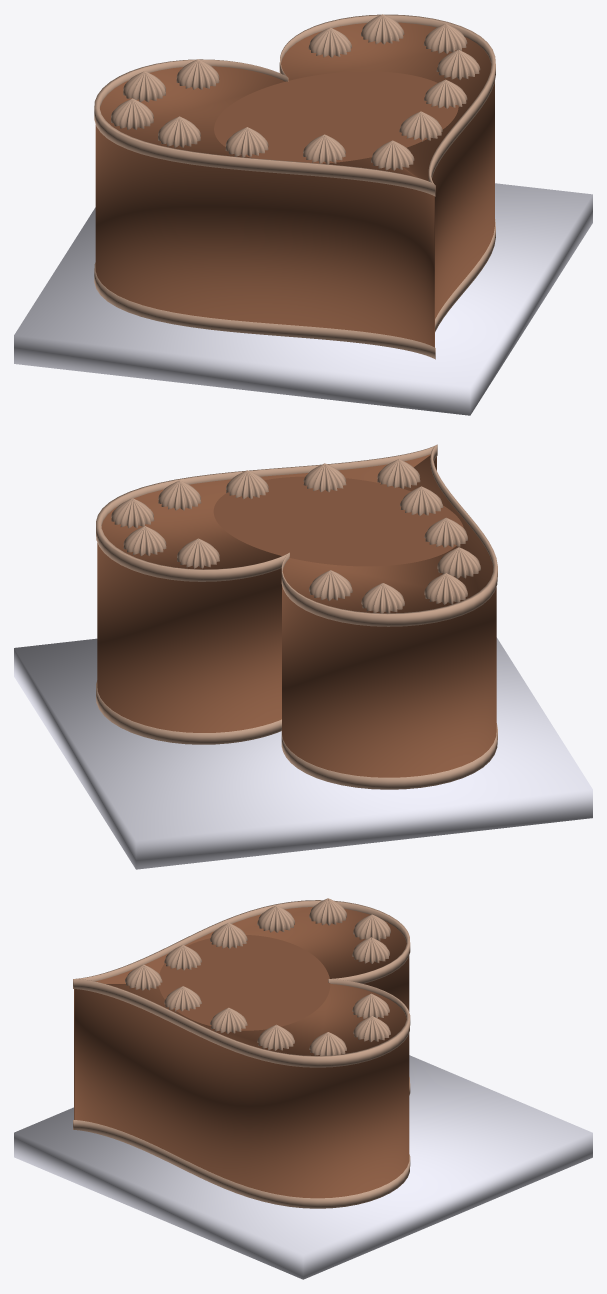
File: heart_chocolate_style1.glb
3 renders of one model, top to bottom at view 1: azimuth 30°, elevation 25°; view 2: azimuth 150°, elevation 25°; view 3: azimuth 270°, elevation 25°, orthographic. The views are drawn at different scales.
Visible parts, largest first — view 1: HeartCake, IcingStand, CakeTopCircle, IcingRing, IcingRing.001, design12, design9, design10, design11, design8, design2, design15 (+6 smaller); view 2: HeartCake, IcingStand, CakeTopCircle, IcingRing, IcingRing.001, design12, design10, design9, design11, design8, design3, design4 (+6 smaller); view 3: HeartCake, IcingStand, CakeTopCircle, IcingRing, IcingRing.001, design12, design9, design11, design10, design4, design2, design15 (+6 smaller).
Part boxes in pixels (left/top/right/bottom): HeartCake: left=95, top=22, right=494, bottom=347; IcingStand: left=14, top=183, right=592, bottom=415; CakeTopCircle: left=214, top=71, right=458, bottom=163; IcingRing: left=94, top=14, right=495, bottom=196; IcingRing.001: left=94, top=219, right=495, bottom=359; design12: left=111, top=98, right=153, bottom=129; design9: left=158, top=116, right=200, bottom=147; design10: left=123, top=71, right=165, bottom=102; design11: left=176, top=59, right=219, bottom=89; design8: left=225, top=127, right=268, bottom=157; design2: left=371, top=140, right=414, bottom=170; design15: left=361, top=14, right=404, bottom=44; HeartCake: left=97, top=454, right=496, bottom=777; IcingStand: left=14, top=637, right=592, bottom=869; CakeTopCircle: left=213, top=476, right=463, bottom=566; IcingRing: left=96, top=444, right=497, bottom=626; IcingRing.001: left=96, top=680, right=497, bottom=789; design12: left=424, top=573, right=467, bottom=604; design10: left=361, top=583, right=404, bottom=613; design9: left=437, top=547, right=480, bottom=578; design11: left=309, top=570, right=352, bottom=600; design8: left=424, top=517, right=467, bottom=547; design3: left=111, top=498, right=154, bottom=528; design4: left=158, top=480, right=201, bottom=510; HeartCake: left=74, top=907, right=409, bottom=1198; IcingStand: left=14, top=1055, right=592, bottom=1279; CakeTopCircle: left=158, top=935, right=330, bottom=1030; IcingRing: left=73, top=900, right=410, bottom=1067; IcingRing.001: left=73, top=1077, right=410, bottom=1208; design12: left=309, top=898, right=346, bottom=925; design9: left=257, top=905, right=294, bottom=932; design11: left=352, top=937, right=389, bottom=963; design10: left=353, top=914, right=390, bottom=940; design4: left=257, top=1024, right=294, bottom=1050; design2: left=125, top=964, right=162, bottom=990; design15: left=353, top=1016, right=390, bottom=1041.
Bounding box in the file's own units: 4.24 × 1.56 × 4.24.
